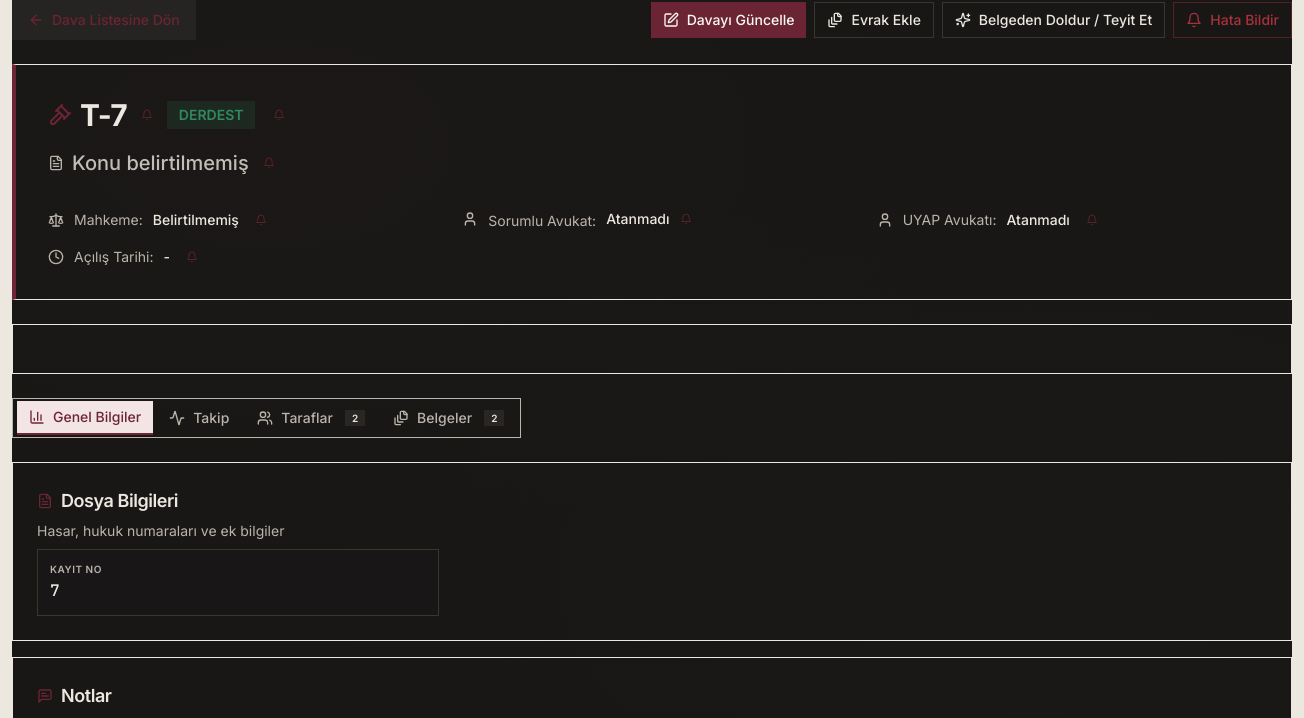
Test: CaseDetails — DocCard kimliği (G186 F5) › kart içeriği ve müvekkil seçimi korunur (davranış aynı)
Press the mouse on the tab "Belgeler 2" at (449, 418), box [381,402,516,434]
(page scrolled)
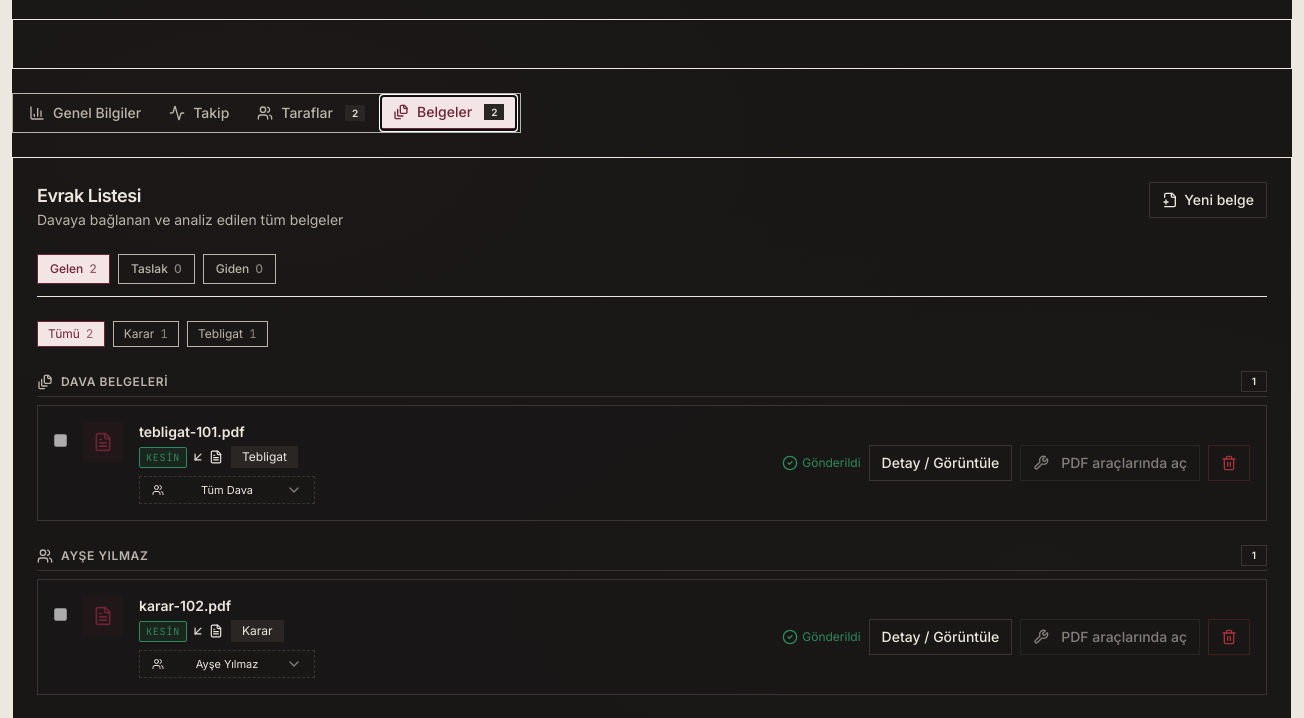
expect the dropdown labelled "Tüm Dava" is shown: met, box [139,476,315,504]
expect the dropdown labelled "Ayşe Yılmaz" is shown: met, box [139,650,315,678]
